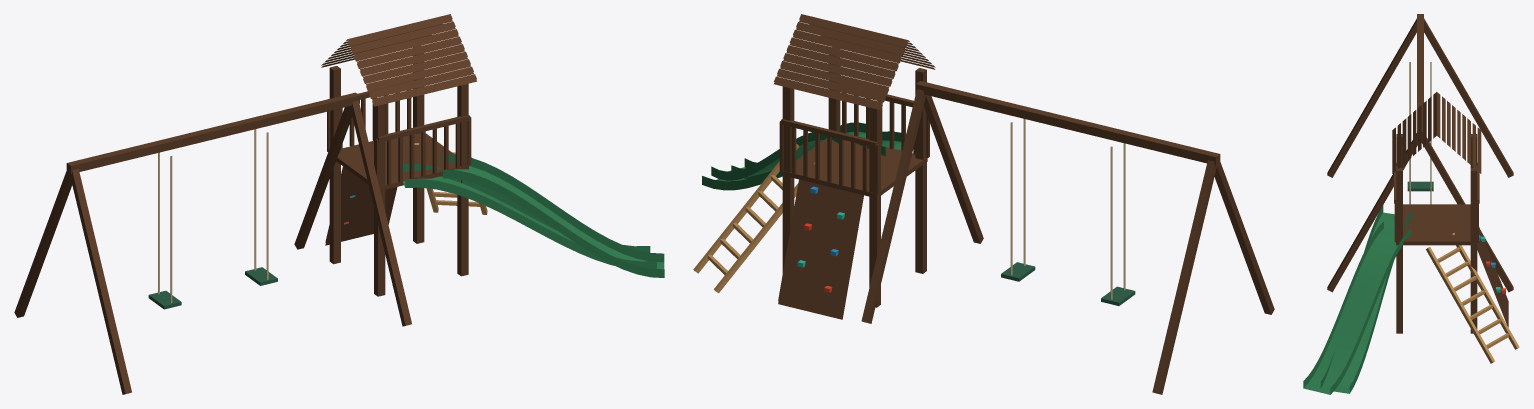
3 views of the same model, side by side, from view 1: azimuth 30°, elevation 25°; view 2: azimuth 150°, elevation 25°; view 3: azimuth 270°, elevation 25° (orthographic). The views are drawn at different scales.
Parts seen in each view (by area): view 1: SW-E106; view 2: SW-E106; view 3: SW-E106.
Part boxes in pixels (x1=…): SW-E106: x1=14, y1=14, x2=664, y2=394; SW-E106: x1=693, y1=14, x2=1274, y2=394; SW-E106: x1=1303, y1=14, x2=1519, y2=394.
Size of the model in its own units: 7.7 by 3.3 by 3.18.
